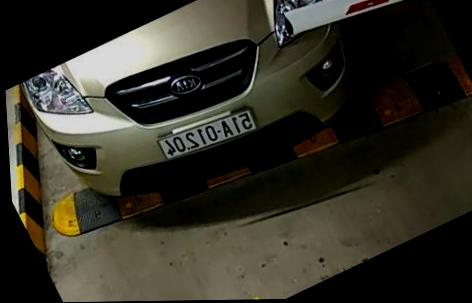License_Plate: (151, 106, 268, 164)
